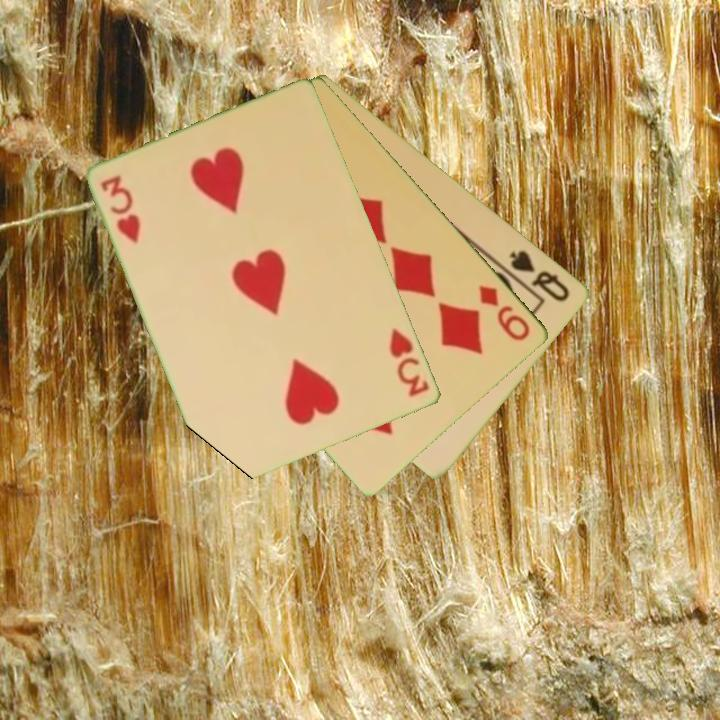3h: (386, 325, 433, 400), (98, 172, 144, 247)
9d: (475, 281, 534, 344)
Qs: (506, 246, 573, 305)
